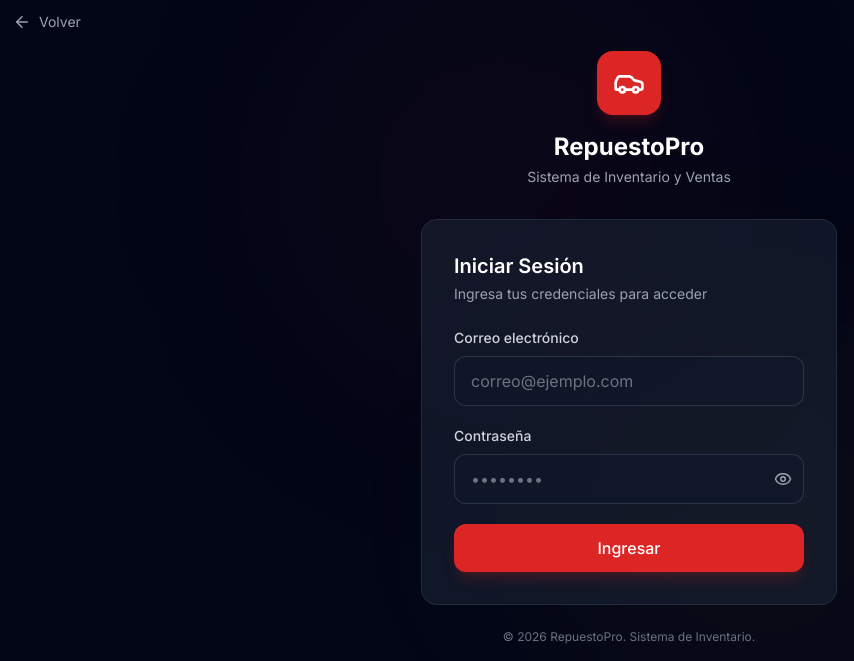
Scenario: LoginPage › botón se deshabilita durante loading
Type "a@b.com" into the field with placeholder "correo@ejemplo.com" at point(629, 381), box [454,356,804,406]
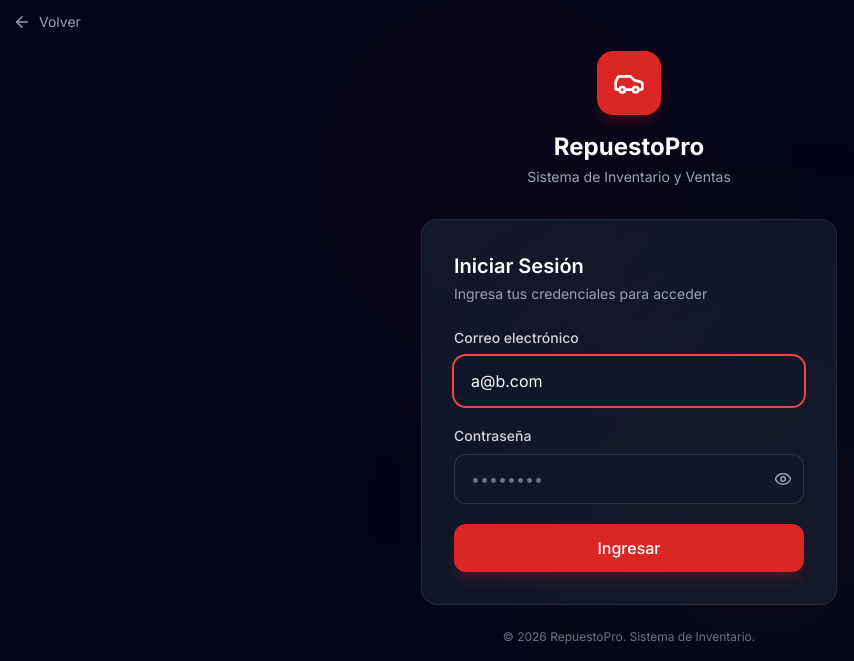
Type "pass" into the password field with placeholder "••••••••" at point(629, 479), box [454,454,804,504]
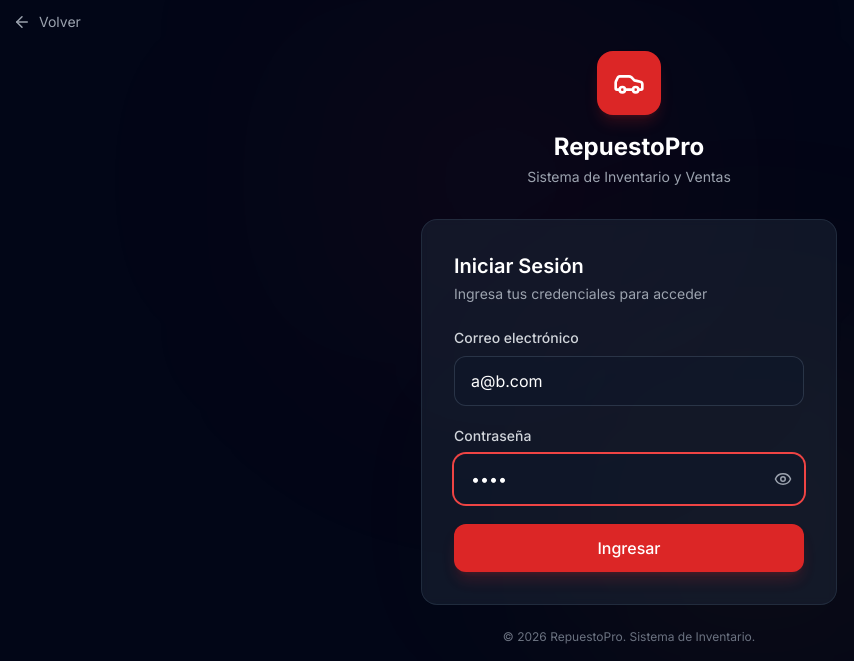
Click the button "Ingresar" at point(629, 548), box [454,524,804,572]
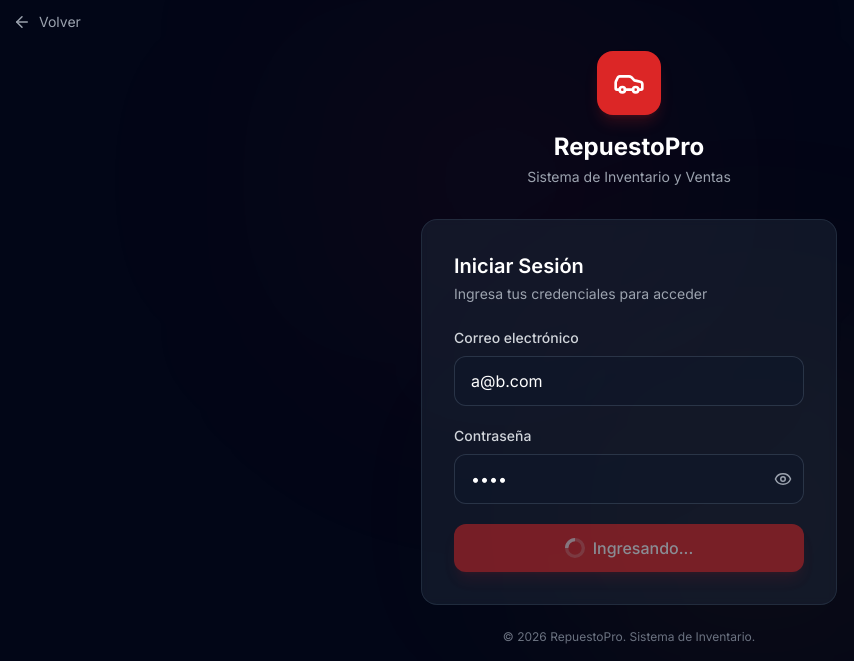
Expected: the button "Ingresando..." is disabled, [454,524,804,572]
